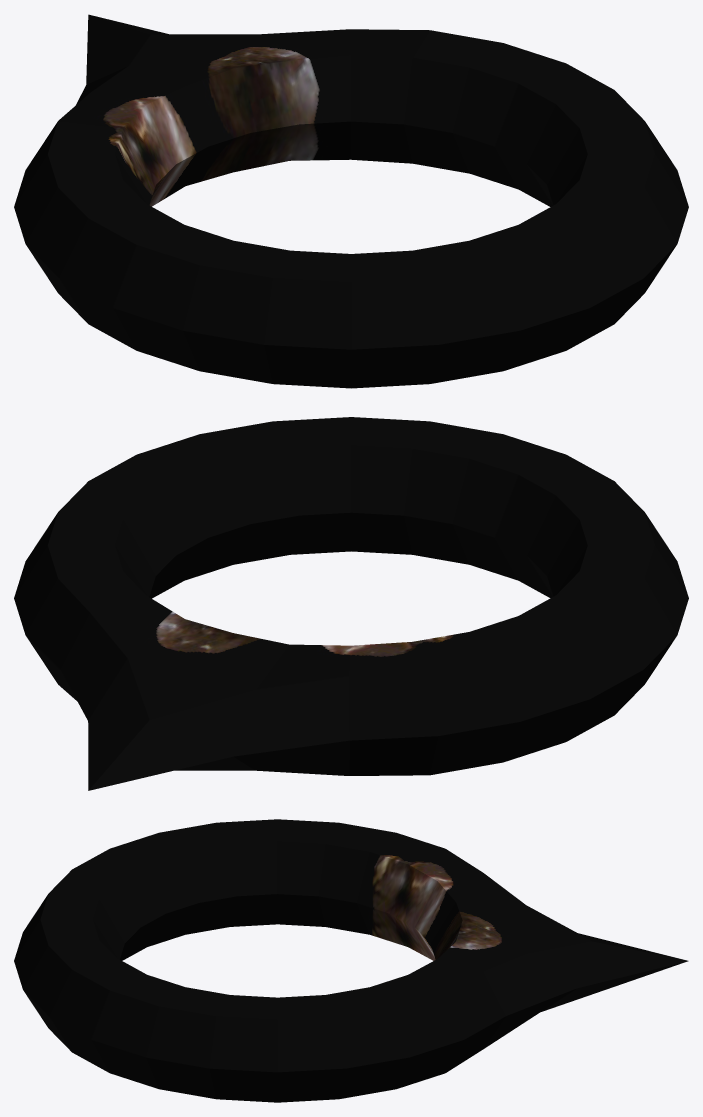
File: compass.obj
The picture shows the model from 3 angles, top to bottom: view 1: azimuth 30°, elevation 25°; view 2: azimuth 150°, elevation 25°; view 3: azimuth 270°, elevation 25°; orthographic projection. The views are drawn at different scales.
Parts seen in each view (by area): view 1: Torus; view 2: Torus; view 3: Torus.
Boxes of the visible parts, x1,y1,x2,y2 form: Torus: (14, 14, 688, 388); Torus: (14, 417, 688, 790); Torus: (14, 819, 688, 1102).
Bounding box in the file's own units: 1.28 × 0.2214 × 1.64.
